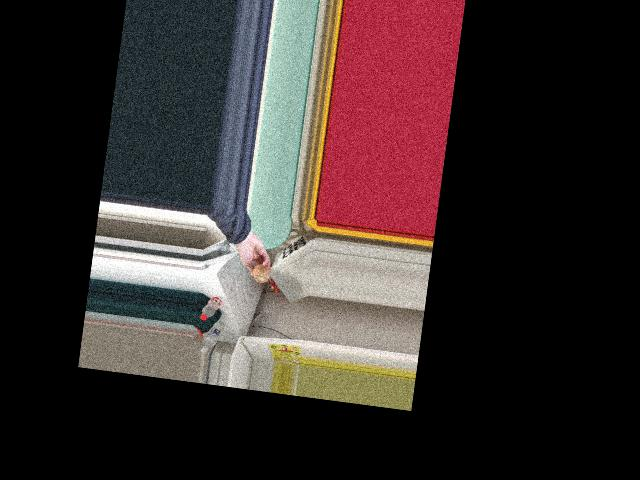sweet_potato: (251, 261, 269, 283)
